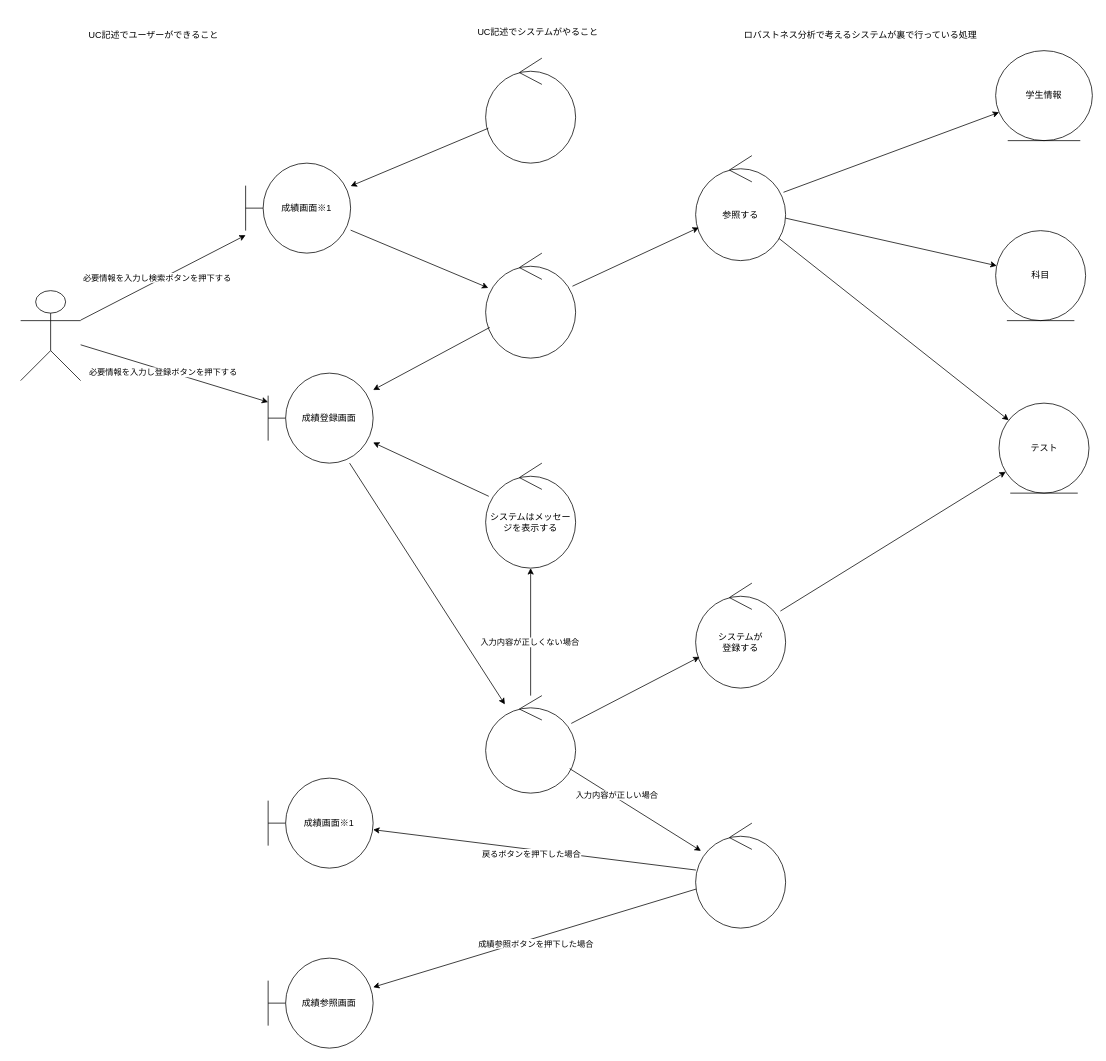
The diagram is 1106 pixels wide and 1061 high, and some of its shapes have lost their labels. The shapes that lost their labels are listed below. From the top down, each one's box as (x1, y1, x2, y2) in pixels, then its label:
(485, 57, 576, 163): システムが画面を表示する
(485, 252, 576, 358): システムが入力欄を表示する
(20, 290, 81, 381): Actor
(485, 695, 576, 793): システムが入力内容を確認する
(695, 822, 786, 928): システムが完了画面を表示する
